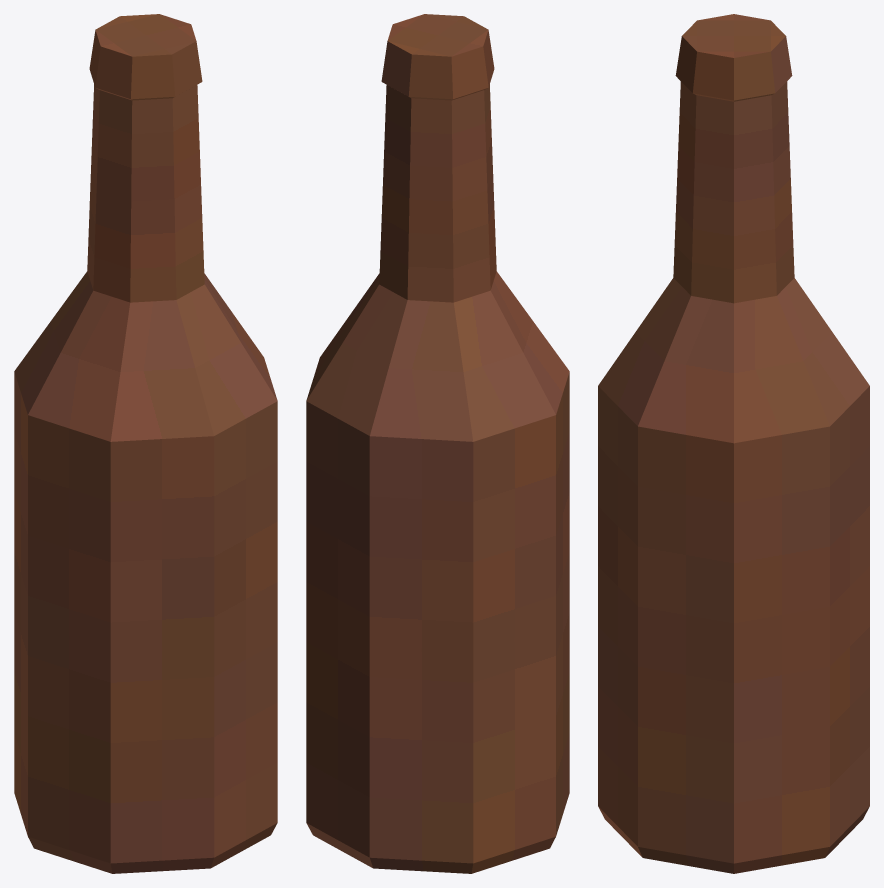
Rendered from Bottle01.glb.
3 renders of one model, left to right at view 1: azimuth 30°, elevation 25°; view 2: azimuth 150°, elevation 25°; view 3: azimuth 270°, elevation 25°, orthographic.
Visible parts, largest first — view 1: Bottle01; view 2: Bottle01; view 3: Bottle01.
Part boxes in pixels (<box>): Bottle01: <box>14,14,277,873</box>; Bottle01: <box>306,14,569,873</box>; Bottle01: <box>598,14,869,873</box>.
Size of the model in its own units: 0.1321 by 0.4199 by 0.1321.
1 material, 1 textured.
